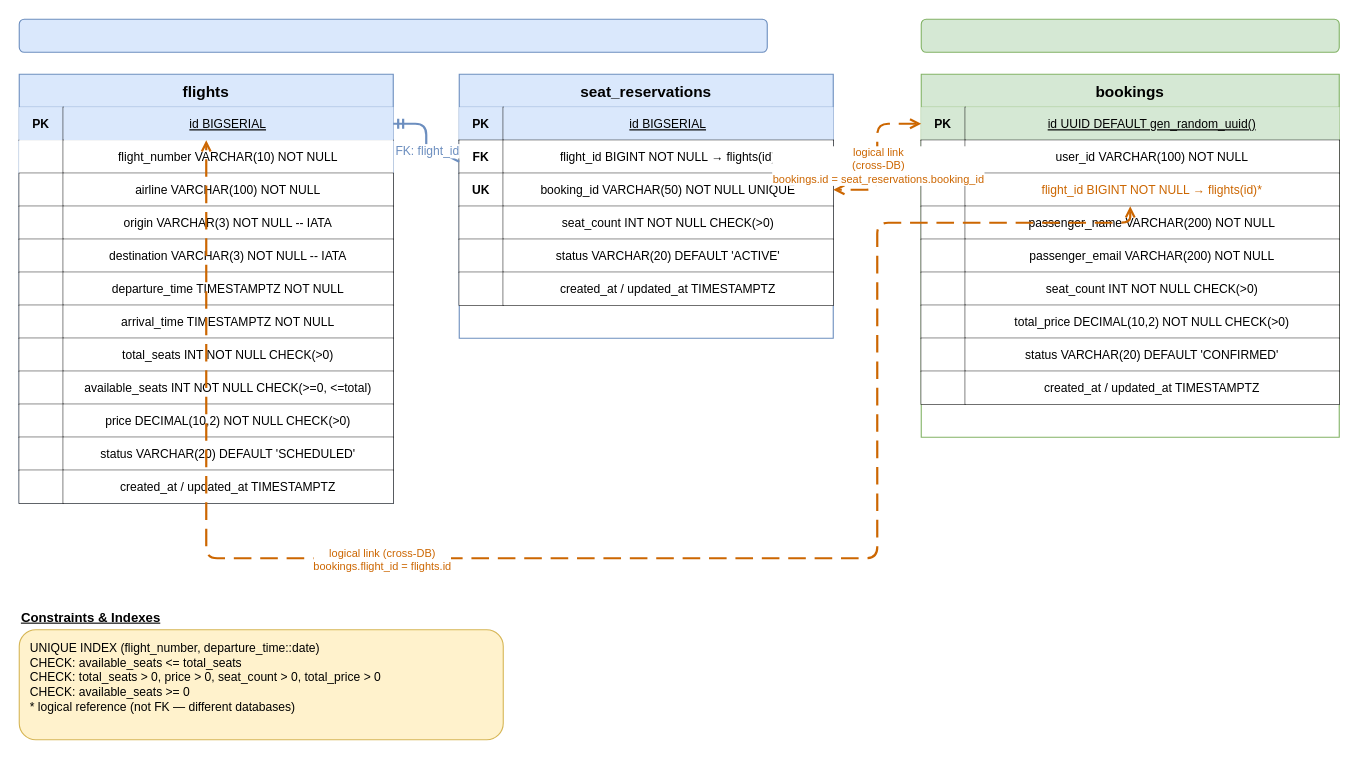
The diagram is 1359 pixels wide and 759 high, and some of its shapes have lost their labels. The centre of each missing label's shape, as x and y in pixels:
Booking Service DB (PostgreSQL): [1129,35]
Flight Service DB (PostgreSQL): [392,35]
